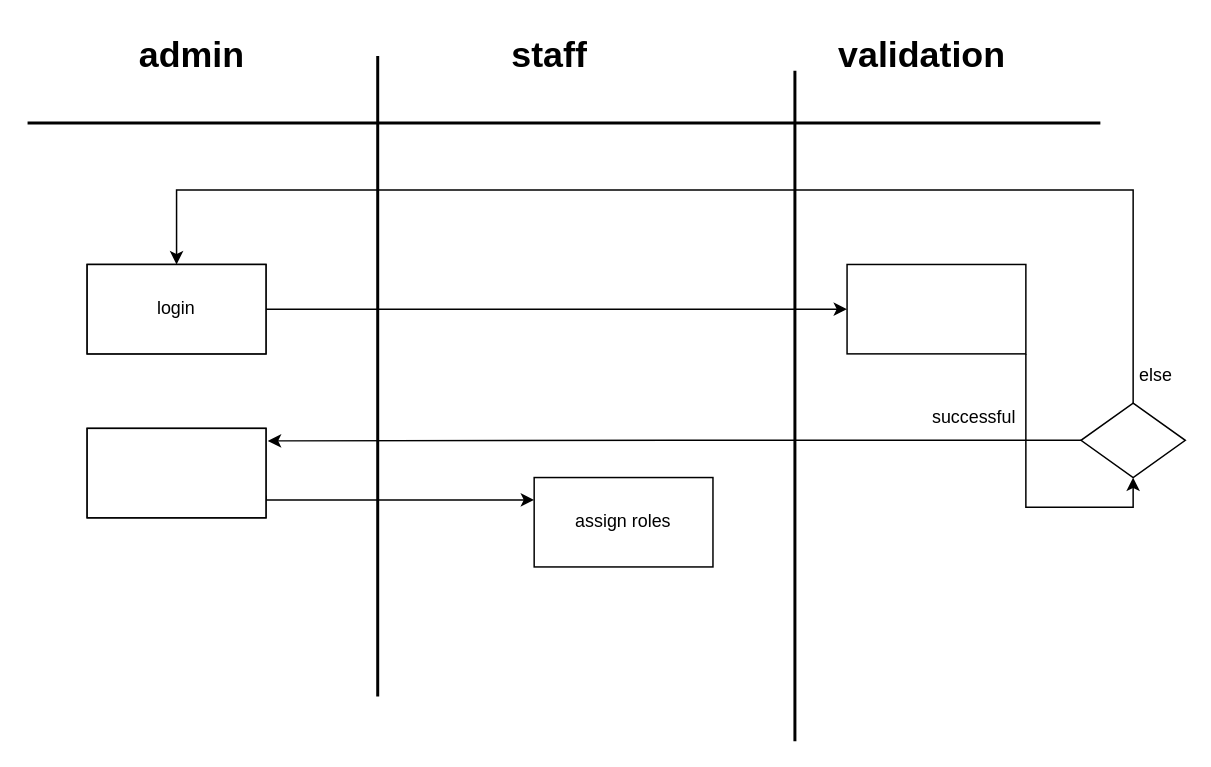
This 1211x767 diagram has some shape labels left out. Each missing label, with the box of its shape:
register staff: (86, 427, 266, 518)
validate login: (846, 263, 1026, 354)
